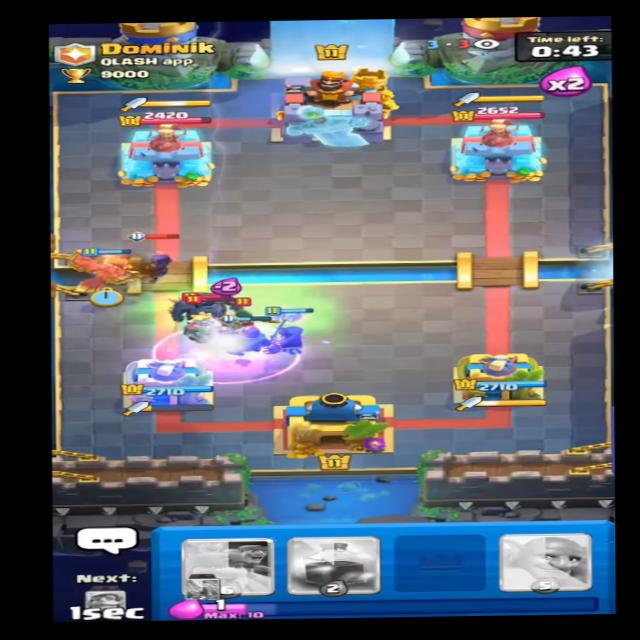bandit: (221, 302, 260, 331)
evo-wizard: (127, 230, 180, 277)
pekka: (163, 282, 245, 327)
royal-ghost: (170, 303, 232, 345)
